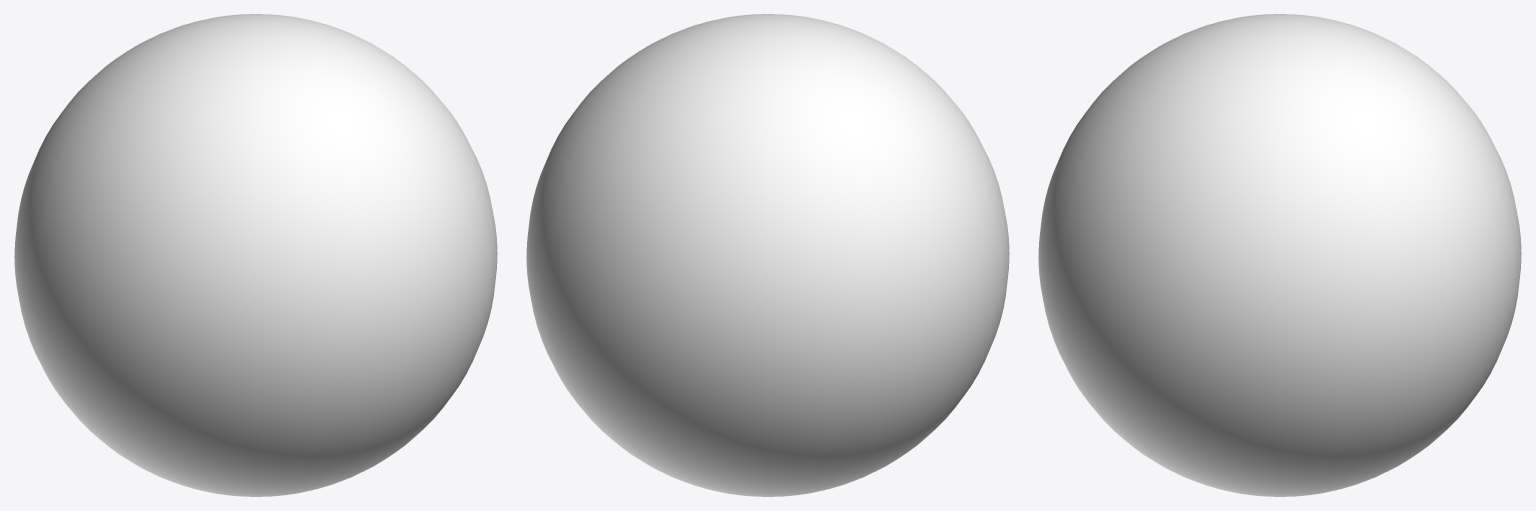
Rendered from Light.obj.
The picture shows the model from 3 angles, left to right: view 1: azimuth 30°, elevation 25°; view 2: azimuth 150°, elevation 25°; view 3: azimuth 270°, elevation 25°; orthographic projection.
Visible parts, largest first — view 1: PROCEDURAL_MESHES_SPHERE#0 2; view 2: PROCEDURAL_MESHES_SPHERE#0 2; view 3: PROCEDURAL_MESHES_SPHERE#0 2.
Boxes of the visible parts, x1,y1,x2,y2 form: PROCEDURAL_MESHES_SPHERE#0 2: [14, 14, 497, 496]; PROCEDURAL_MESHES_SPHERE#0 2: [526, 14, 1009, 496]; PROCEDURAL_MESHES_SPHERE#0 2: [1038, 14, 1521, 496].
Size of the model in its own units: 1.65 by 1.65 by 1.65.
Materials: 1 (1 with a texture image).
